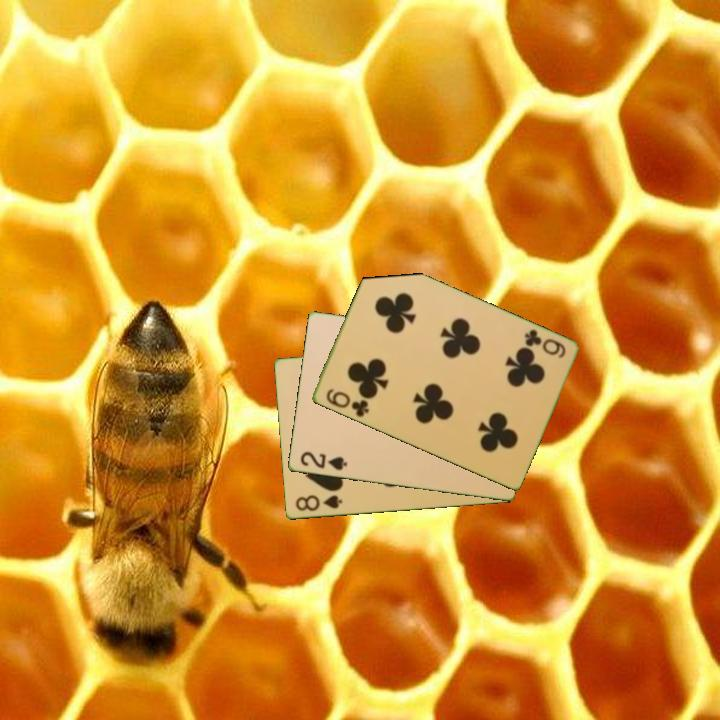2s: (297, 448, 350, 473)
6c: (322, 385, 371, 420), (520, 326, 568, 361)
8s: (292, 492, 345, 514)
